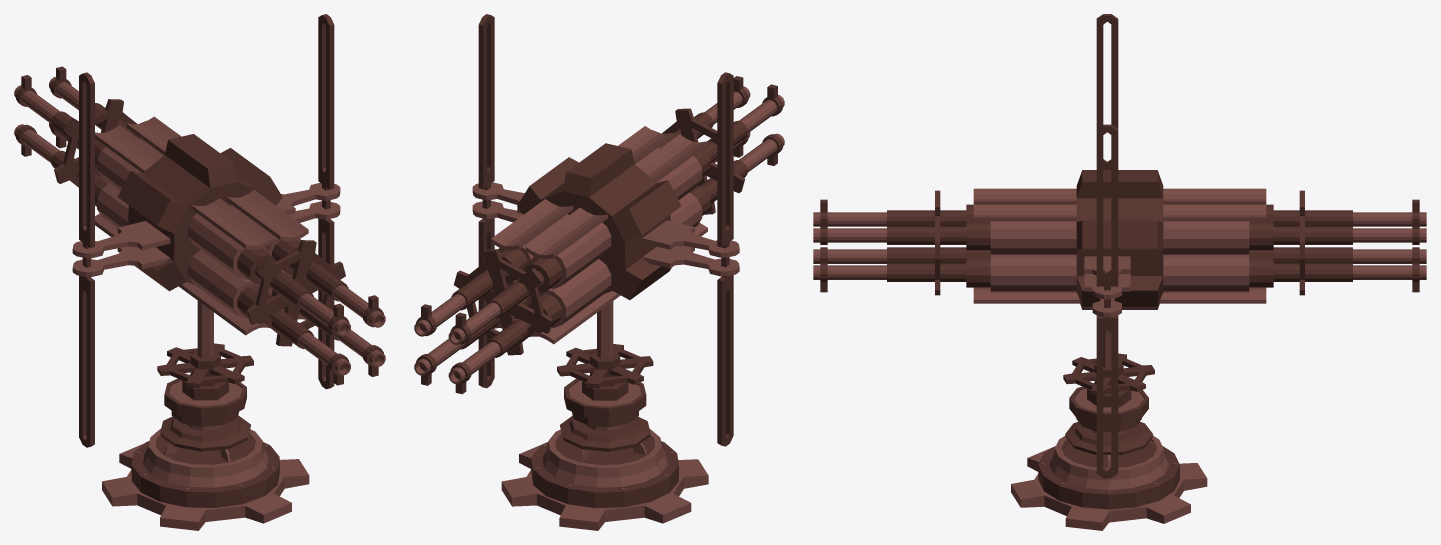
Rendered from gun-10-d4de23cefd.glb.
3 views of the same model, side by side, from view 1: azimuth 30°, elevation 25°; view 2: azimuth 150°, elevation 25°; view 3: azimuth 270°, elevation 25° (orthographic). The views are drawn at different scales.
Parts seen in each view (by area): view 1: Gun_10.obj; view 2: Gun_10.obj; view 3: Gun_10.obj.
Boxes of the visible parts, left/top/right/bottom form: Gun_10.obj: left=14, top=14, right=385, bottom=530; Gun_10.obj: left=414, top=14, right=784, bottom=530; Gun_10.obj: left=813, top=14, right=1426, bottom=530.
Size of the model in its own units: 2.02 by 3.25 by 4.3.
